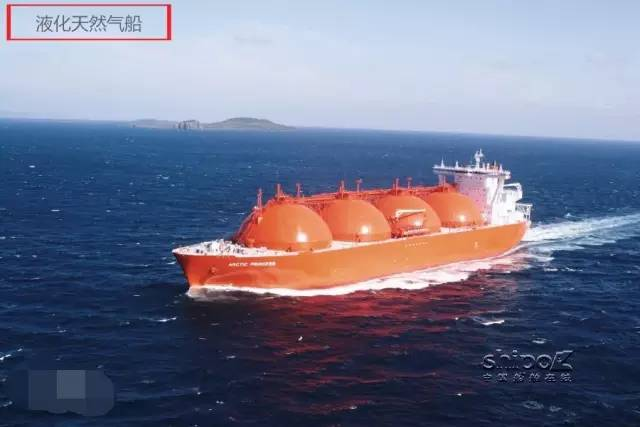Cargoship: (175, 150, 536, 303)
